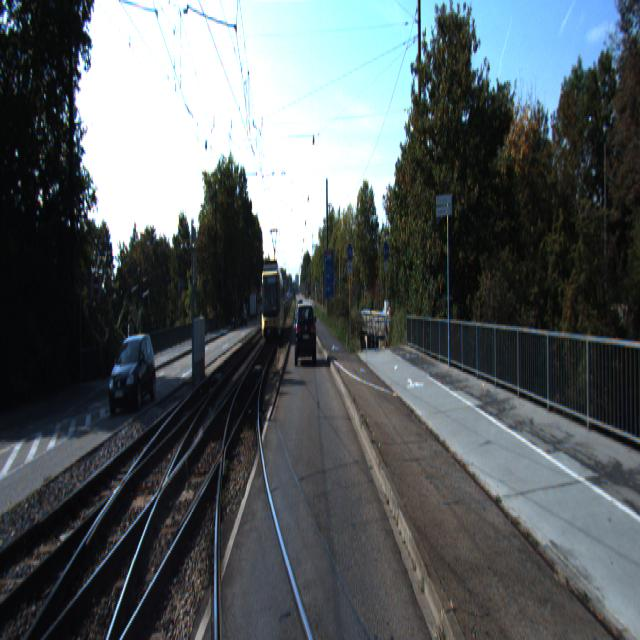Car: (105, 329, 159, 412), (258, 256, 284, 345), (296, 303, 316, 366)
